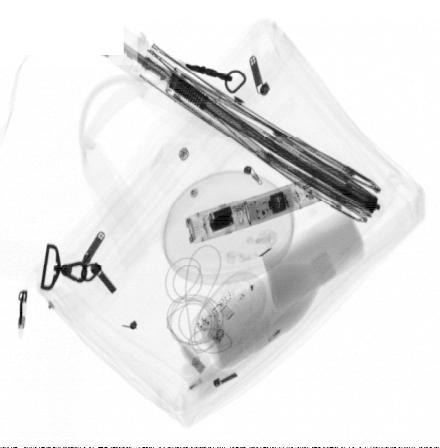Baton: (182, 172, 324, 248)
